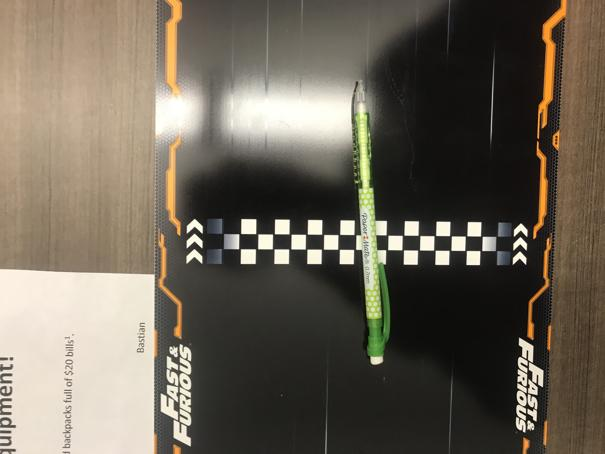Finish Line: (186, 218, 529, 266)
